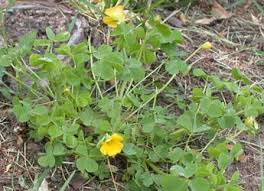clover: (37, 141, 66, 167)
yellow wood sorrel: (99, 132, 124, 157), (102, 6, 128, 28)
